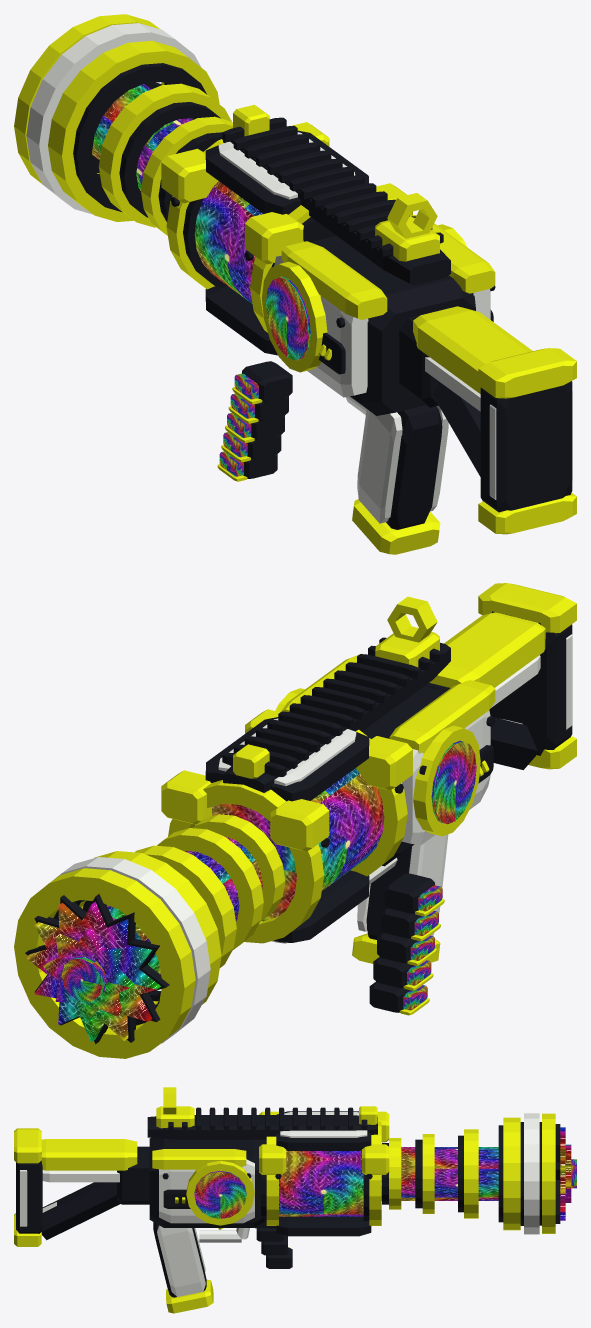
Rendered from machine-gun-v2.glb.
3 views of the same model, one above another, from view 1: azimuth 30°, elevation 25°; view 2: azimuth 150°, elevation 25°; view 3: azimuth 270°, elevation 25° (orthographic). The views are drawn at different scales.
Parts seen in each view (by area): view 1: machine_gun_root__RK_Weapon_Structural_Black, machine_gun_root__RK_Weapon_Neon_Yellow, machine_gun_root__RK_Weapon_Porcelain_White, gun_reactor__RK_Weapon_Rainbow_Fractal; view 2: machine_gun_root__RK_Weapon_Neon_Yellow, machine_gun_root__RK_Weapon_Structural_Black, gun_reactor__RK_Weapon_Rainbow_Fractal, gun_muzzle_flower__RK_Weapon_Rainbow_Fractal, machine_gun_root__RK_Weapon_Porcelain_White; view 3: machine_gun_root__RK_Weapon_Structural_Black, machine_gun_root__RK_Weapon_Neon_Yellow, gun_reactor__RK_Weapon_Rainbow_Fractal, machine_gun_root__RK_Weapon_Porcelain_White, gun_muzzle_flower__RK_Weapon_Rainbow_Fractal.
Boxes of the visible parts, x1=… form: machine_gun_root__RK_Weapon_Structural_Black: x1=73, y1=63, x2=572, y2=529; machine_gun_root__RK_Weapon_Neon_Yellow: x1=14, y1=14, x2=576, y2=554; machine_gun_root__RK_Weapon_Porcelain_White: x1=26, y1=23, x2=572, y2=523; gun_reactor__RK_Weapon_Rainbow_Fractal: x1=92, y1=84, x2=310, y2=476; machine_gun_root__RK_Weapon_Neon_Yellow: x1=14, y1=583, x2=576, y2=1058; machine_gun_root__RK_Weapon_Structural_Black: x1=25, y1=611, x2=572, y2=1044; gun_reactor__RK_Weapon_Rainbow_Fractal: x1=107, y1=740, x2=476, y2=1010; gun_muzzle_flower__RK_Weapon_Rainbow_Fractal: x1=25, y1=901, x2=160, y2=1042; machine_gun_root__RK_Weapon_Porcelain_White: x1=54, y1=634, x2=572, y2=1043; machine_gun_root__RK_Weapon_Structural_Black: x1=16, y1=1107, x2=560, y2=1297; machine_gun_root__RK_Weapon_Neon_Yellow: x1=14, y1=1087, x2=555, y2=1313; gun_reactor__RK_Weapon_Rainbow_Fractal: x1=194, y1=1147, x2=498, y2=1247; machine_gun_root__RK_Weapon_Porcelain_White: x1=20, y1=1112, x2=539, y2=1296; gun_muzzle_flower__RK_Weapon_Rainbow_Fractal: x1=560, y1=1127, x2=576, y2=1220.
Size of the model in its own units: 0.339 by 0.6214 by 1.47.
Materials: 4 (1 with a texture image).
